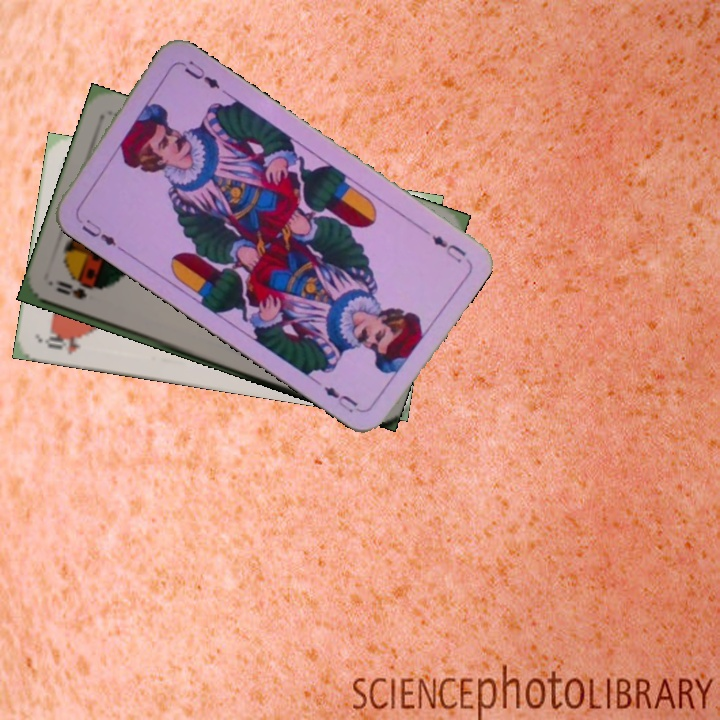EU: (73, 213, 120, 249), (427, 231, 469, 266)
HO: (40, 328, 84, 357)
SO: (52, 276, 89, 302)
